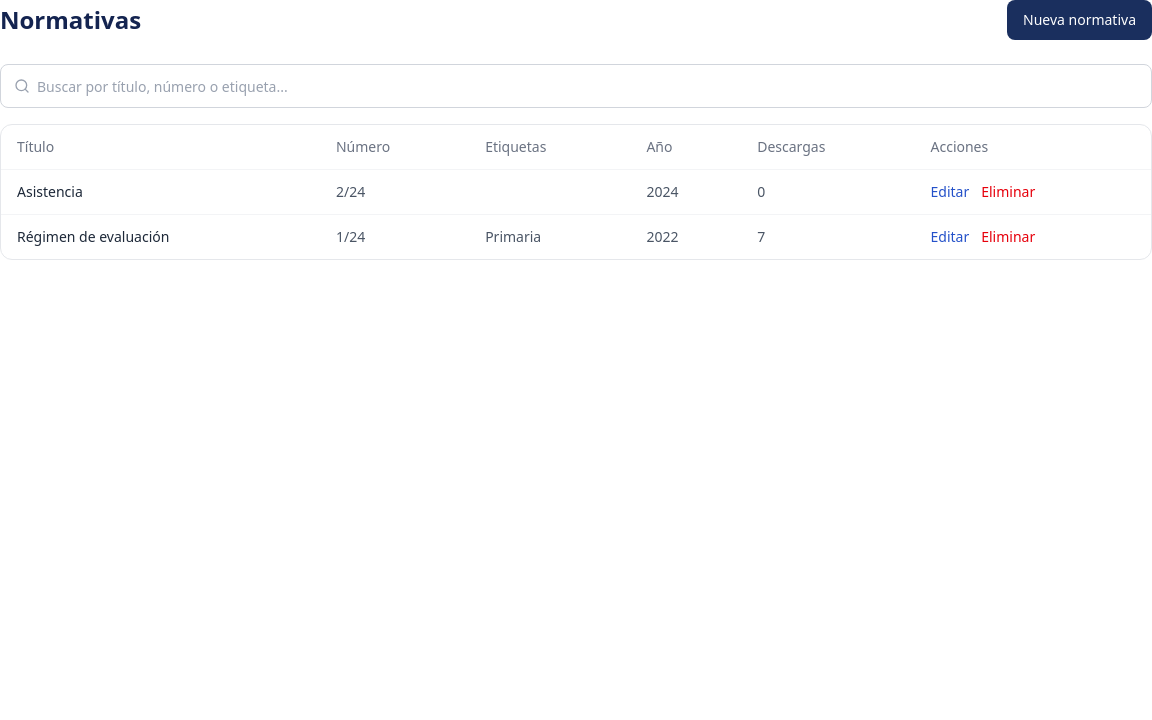
Test case: NormativasAdminPage: eliminar (criterio 4) › tras la baja vuelve a pedir la lista (la fila desaparece)
Step 1. Click the button "Eliminar" in the row of "Régimen de evaluación" → (1008, 237), box [981,227,1035,247]
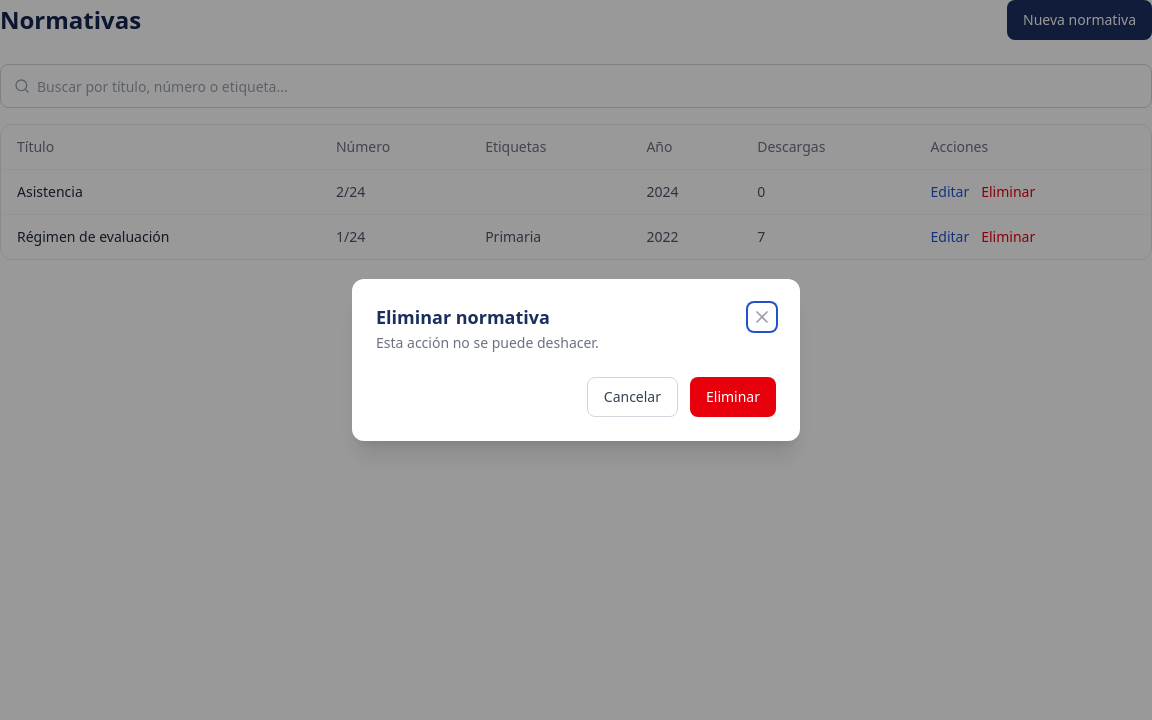
Step 2. Click the button "Eliminar" → (733, 397), box [690,377,776,417]
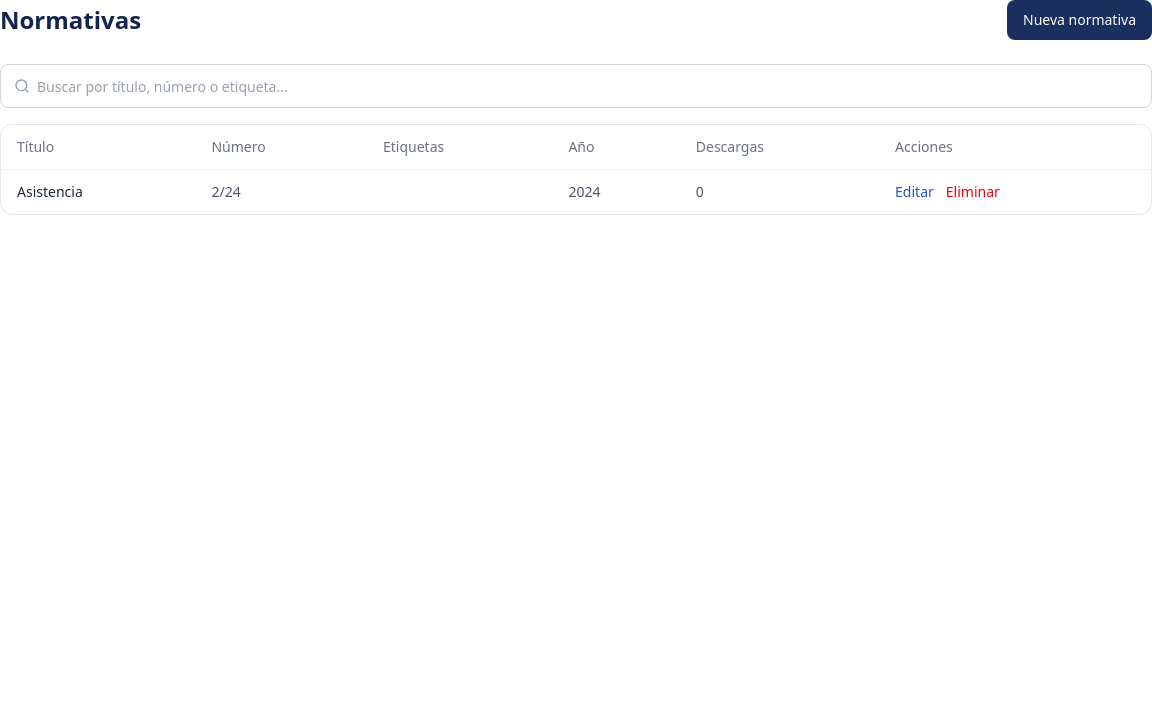
Expected: the cell "Régimen de evaluación" is gone
